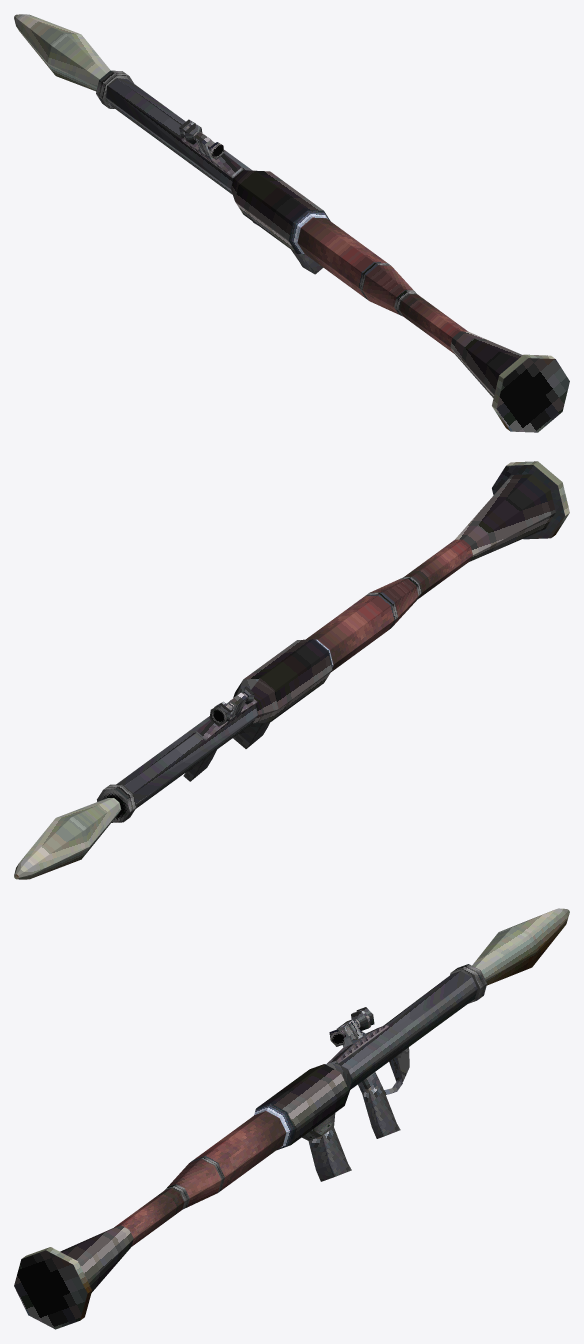
File: recovered_gun_rpg7_c4a3906b.glb
3 views of the same model, one above another, from view 1: azimuth 30°, elevation 25°; view 2: azimuth 150°, elevation 25°; view 3: azimuth 330°, elevation 25° (orthographic).
Parts seen in each view (by area): view 1: Gun_3e09a20d018c, Gun_0755e9578fac, Gun_05c8ab4a692c, Gun_628855c9e9b6, Gun_0714c50f9222, Gun_b13d6834534a, Gun_4585a4b8e734, Gun_df2b1f4a47e4; view 2: Gun_0755e9578fac, Gun_3e09a20d018c, Gun_628855c9e9b6, Gun_0714c50f9222, Gun_05c8ab4a692c, Gun_4585a4b8e734, Gun_379f7b5fa02f, Gun_b13d6834534a; view 3: Gun_3e09a20d018c, Gun_0755e9578fac, Gun_0714c50f9222, Gun_05c8ab4a692c, Gun_628855c9e9b6, Gun_4585a4b8e734, Gun_b13d6834534a, Gun_df2b1f4a47e4.
Boxes of the visible parts, x1=… form: Gun_3e09a20d018c: x1=297, y1=217, x2=467, y2=353; Gun_0755e9578fac: x1=231, y1=170, x2=522, y2=397; Gun_05c8ab4a692c: x1=288, y1=210, x2=569, y2=432; Gun_628855c9e9b6: x1=14, y1=14, x2=554, y2=431; Gun_0714c50f9222: x1=106, y1=78, x2=264, y2=194; Gun_b13d6834534a: x1=96, y1=70, x2=416, y2=316; Gun_4585a4b8e734: x1=183, y1=122, x2=323, y2=274; Gun_df2b1f4a47e4: x1=181, y1=138, x2=241, y2=177; Gun_0755e9578fac: x1=244, y1=474, x2=555, y2=723; Gun_3e09a20d018c: x1=306, y1=539, x2=472, y2=671; Gun_628855c9e9b6: x1=14, y1=461, x2=569, y2=879; Gun_0714c50f9222: x1=116, y1=678, x2=259, y2=808; Gun_05c8ab4a692c: x1=313, y1=461, x2=564, y2=669; Gun_4585a4b8e734: x1=183, y1=692, x2=269, y2=781; Gun_379f7b5fa02f: x1=97, y1=706, x2=227, y2=822; Gun_b13d6834534a: x1=104, y1=577, x2=421, y2=821; Gun_3e09a20d018c: x1=114, y1=1111, x2=286, y2=1246; Gun_0755e9578fac: x1=60, y1=1064, x2=348, y2=1292; Gun_0714c50f9222: x1=325, y1=971, x2=477, y2=1103; Gun_05c8ab4a692c: x1=14, y1=1103, x2=295, y2=1329; Gun_628855c9e9b6: x1=22, y1=908, x2=569, y2=1320; Gun_4585a4b8e734: x1=308, y1=1009, x2=402, y2=1181; Gun_b13d6834534a: x1=164, y1=964, x2=487, y2=1209; Gun_df2b1f4a47e4: x1=327, y1=1024, x2=388, y2=1063.
Size of the model in its own units: 0.1268 by 0.1635 by 1.44.
9 materials, 9 textured.
